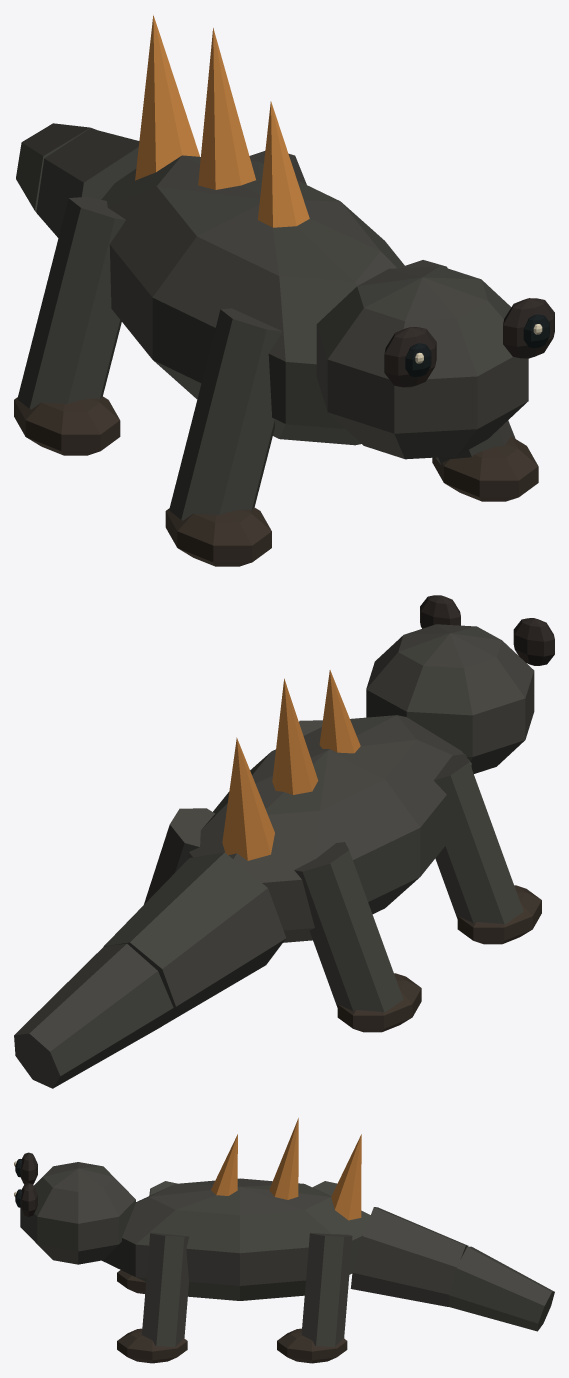
The model's file is fauna-coal_salamander.glb.
3 renders of one model, top to bottom at view 1: azimuth 30°, elevation 25°; view 2: azimuth 150°, elevation 25°; view 3: azimuth 270°, elevation 25°, orthographic. The views are drawn at different scales.
Visible parts, largest first — view 1: Fauna_coal_salamander; view 2: Fauna_coal_salamander; view 3: Fauna_coal_salamander.
Boxes of the visible parts, bbox=[...] form: Fauna_coal_salamander: bbox=[14, 15, 554, 566]; Fauna_coal_salamander: bbox=[14, 595, 554, 1088]; Fauna_coal_salamander: bbox=[14, 1118, 554, 1363].
Bounding box in the file's own units: 0.9444 × 1.02 × 2.41.
